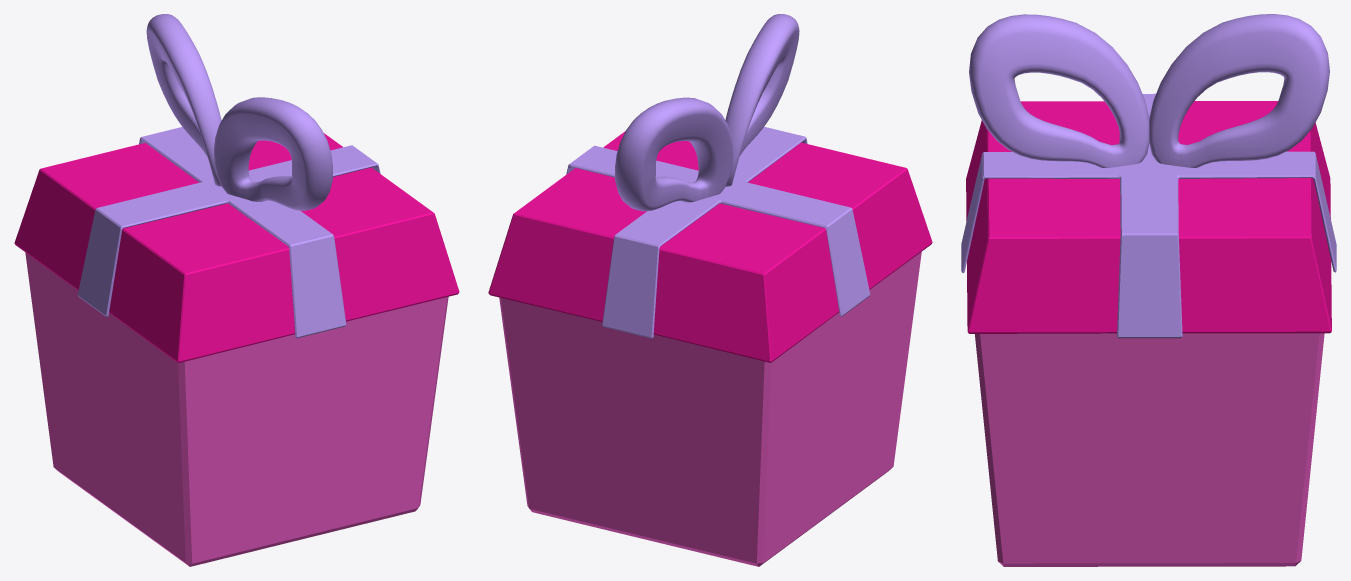
Rendered from Piggy Bank-Gift Box-2-Pink-With Cover.fbx.
3 renders of one model, left to right at view 1: azimuth 30°, elevation 25°; view 2: azimuth 150°, elevation 25°; view 3: azimuth 270°, elevation 25°, orthographic. The views are drawn at different scales.
Visible parts, largest first — view 1: Piggy Bank-Gift Box-2-Under, Piggy Bank-Gift Box-2-Cover, NurbsPath; view 2: Piggy Bank-Gift Box-2-Under, Piggy Bank-Gift Box-2-Cover, NurbsPath; view 3: Piggy Bank-Gift Box-2-Under, Piggy Bank-Gift Box-2-Cover, NurbsPath.
Boxes of the visible parts, x1,y1,x2,y2 form: Piggy Bank-Gift Box-2-Under: (25,252,448,566); Piggy Bank-Gift Box-2-Cover: (14,127,459,362); NurbsPath: (146,14,332,210); Piggy Bank-Gift Box-2-Under: (499,252,921,566); Piggy Bank-Gift Box-2-Cover: (488,126,932,362); NurbsPath: (615,14,799,211); Piggy Bank-Gift Box-2-Under: (975,333,1324,566); Piggy Bank-Gift Box-2-Cover: (961,93,1336,338); NurbsPath: (969,14,1329,167).
Bounding box in the file's own units: 28.78 × 40.81 × 28.78.
